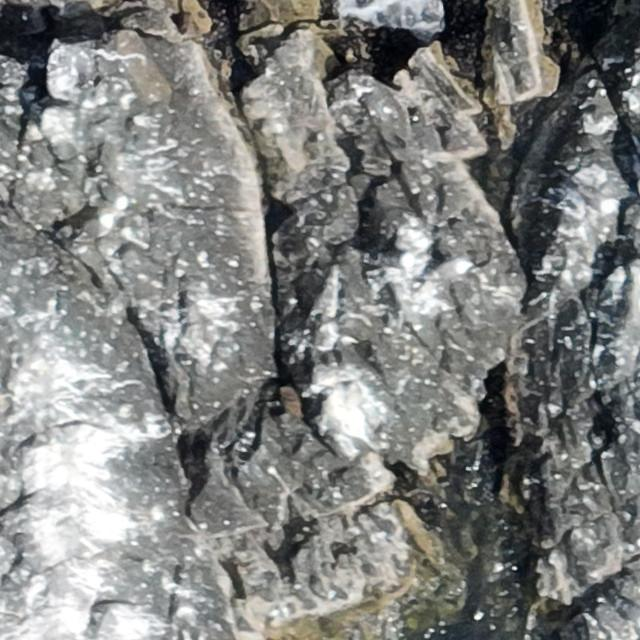umineko: (426, 259, 470, 279), (374, 252, 416, 270)
